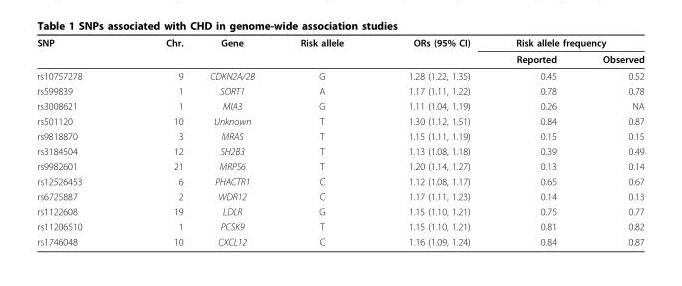table: (36, 36, 643, 246)
table column: (375, 36, 492, 246), (276, 36, 375, 246), (36, 36, 123, 246), (492, 36, 579, 246), (195, 36, 276, 246), (123, 36, 195, 246), (579, 36, 643, 246)
table column header: (36, 36, 643, 67)
table row: (36, 50, 643, 67), (36, 67, 643, 83), (36, 83, 643, 98), (36, 98, 643, 113), (36, 113, 643, 128), (36, 128, 643, 143), (36, 143, 643, 158), (36, 158, 643, 173), (36, 173, 643, 188), (36, 188, 643, 203), (36, 203, 643, 218), (36, 218, 643, 233), (36, 36, 643, 50), (36, 233, 643, 246)
table spanning cell: (375, 36, 492, 67), (276, 36, 375, 67), (36, 36, 123, 67), (195, 36, 276, 67), (123, 36, 195, 67), (492, 36, 643, 50)
